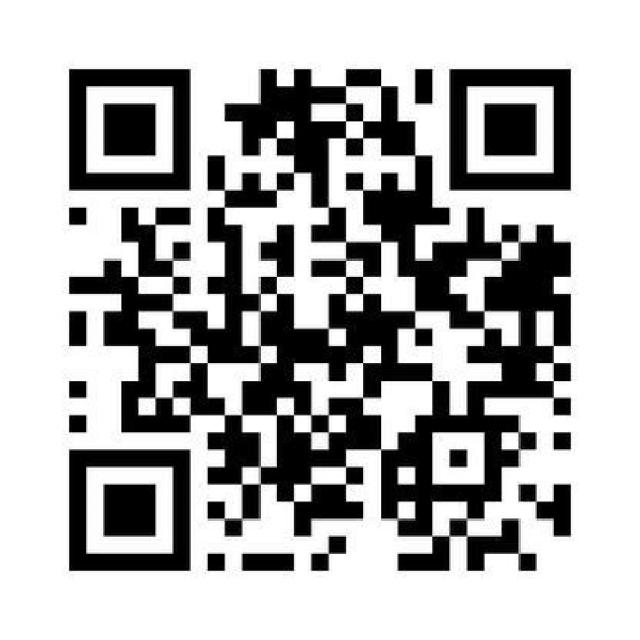QRCode: (62, 63, 588, 577)
